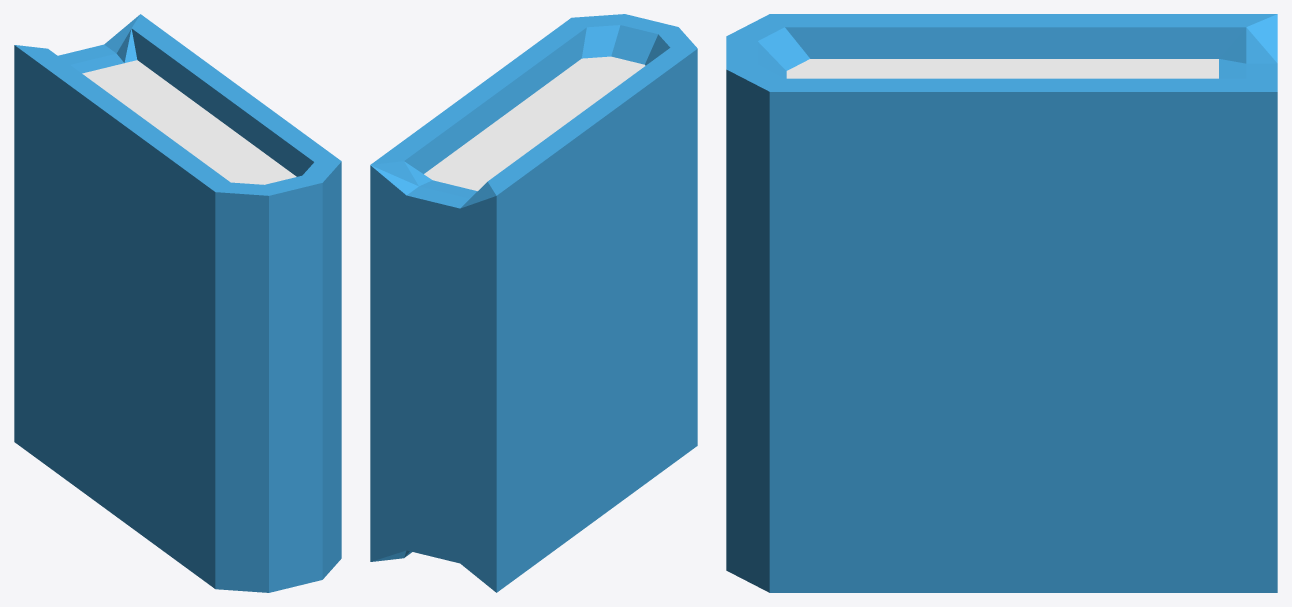
The model's file is book.fbx.
The picture shows the model from 3 angles, left to right: view 1: azimuth 30°, elevation 25°; view 2: azimuth 150°, elevation 25°; view 3: azimuth 270°, elevation 25°; orthographic projection. The views are drawn at different scales.
Visible parts, largest first — view 1: book; view 2: book; view 3: book.
Boxes of the visible parts, box(x1,y1,x2,y2) form: book: box(14, 14, 341, 592); book: box(370, 14, 697, 592); book: box(726, 14, 1277, 592).
Bounding box in the file's own units: 6.74 × 20.24 × 20.18.
